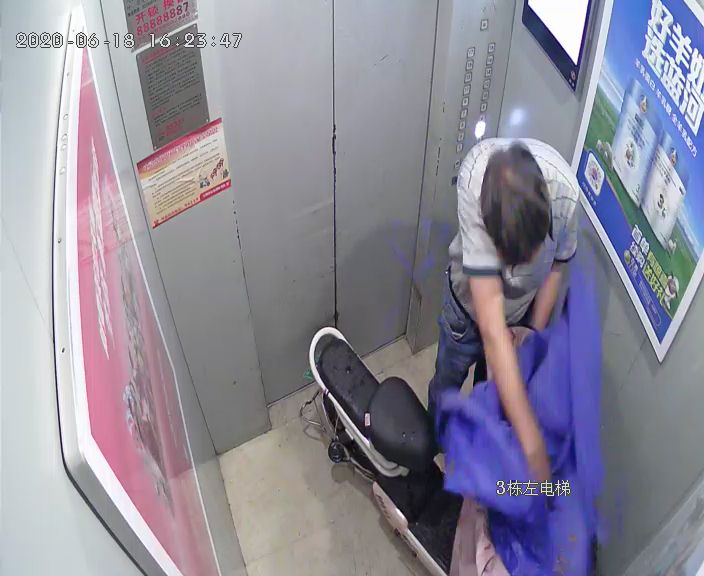Electric-bicycle: (300, 325, 609, 571)
